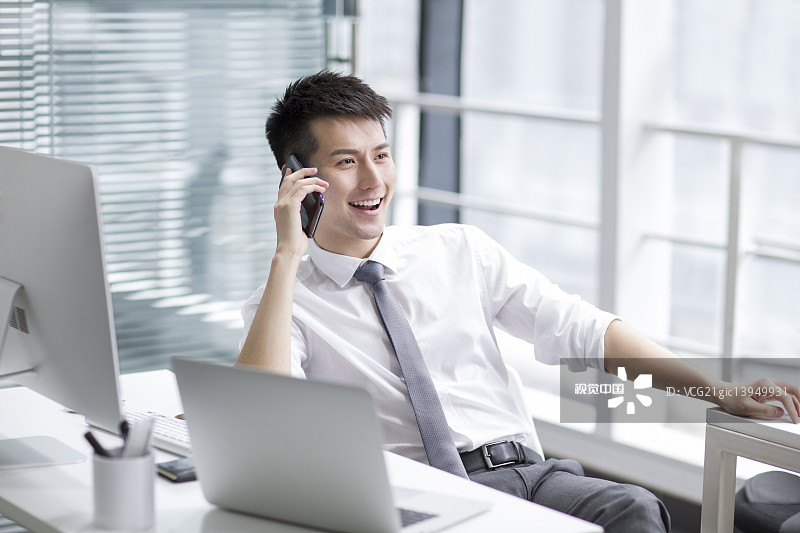calling: (253, 152, 338, 267)
